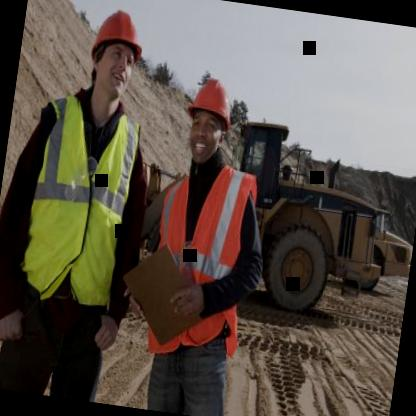helmet: (74, 0, 155, 119), (176, 67, 244, 172)
